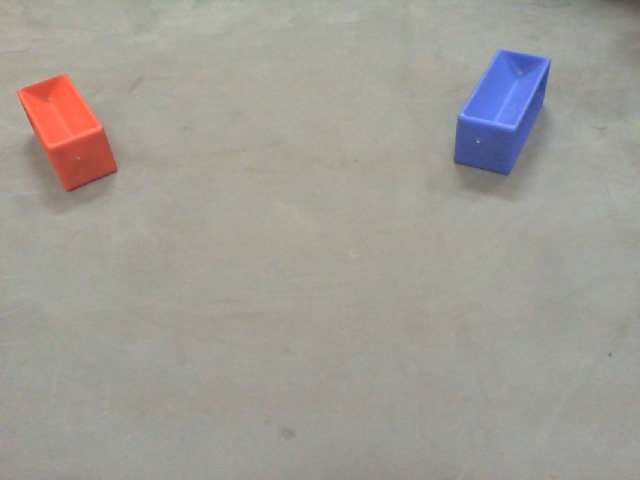BlueSample: (453, 44, 555, 177)
RedSample: (11, 71, 122, 194)
